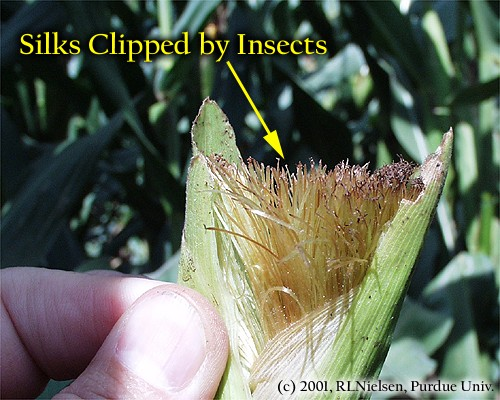corn: (181, 99, 454, 399)
